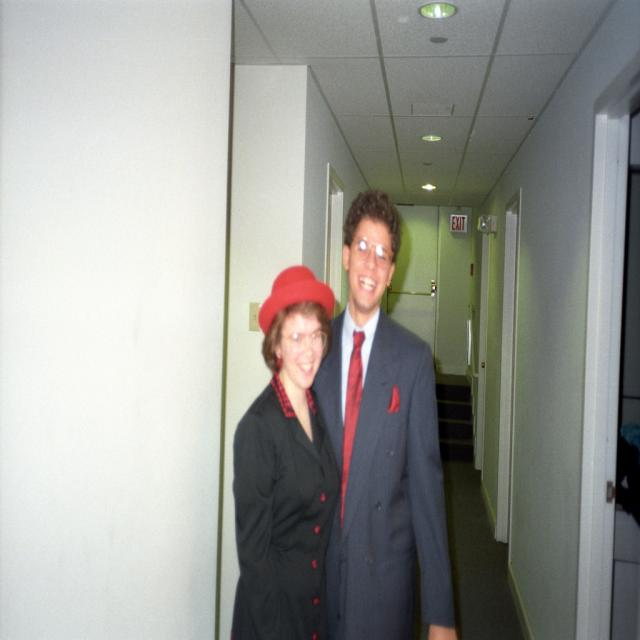Hat: (258, 266, 336, 334)
